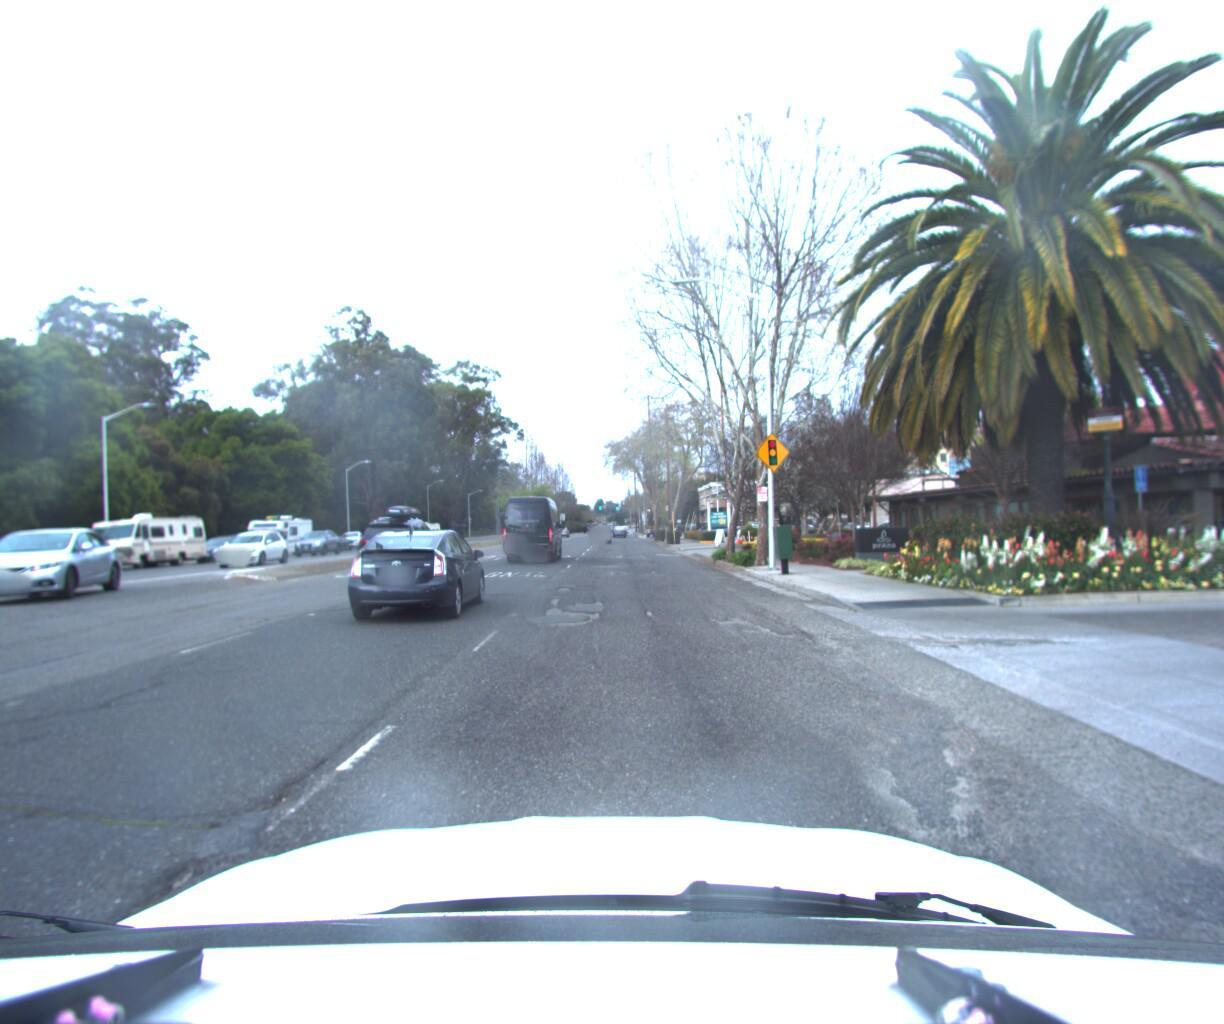car: (342, 523, 498, 628), (0, 524, 133, 611), (360, 503, 455, 578), (215, 529, 303, 568), (198, 535, 265, 565), (0, 539, 34, 595), (854, 517, 924, 541), (298, 531, 350, 558), (340, 532, 376, 553), (592, 522, 616, 540)
other_vehicle: (83, 510, 219, 575), (504, 494, 569, 565), (247, 514, 323, 559)
